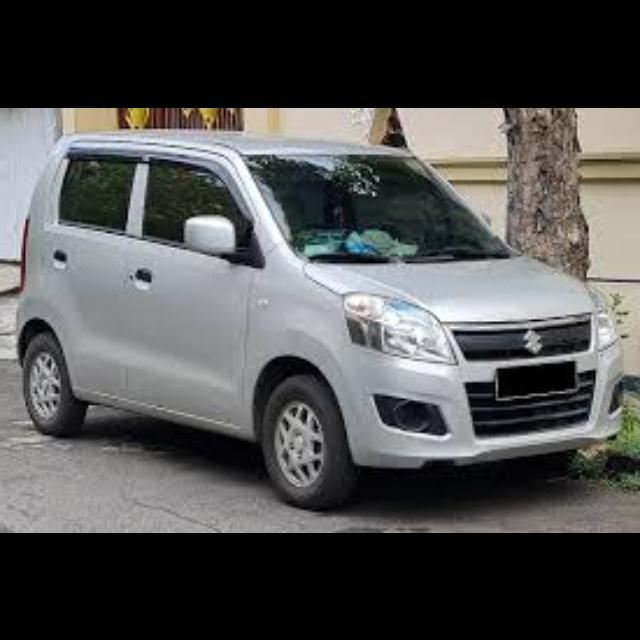number-plate: (494, 356, 585, 400)
vehicles: (12, 124, 633, 517)
